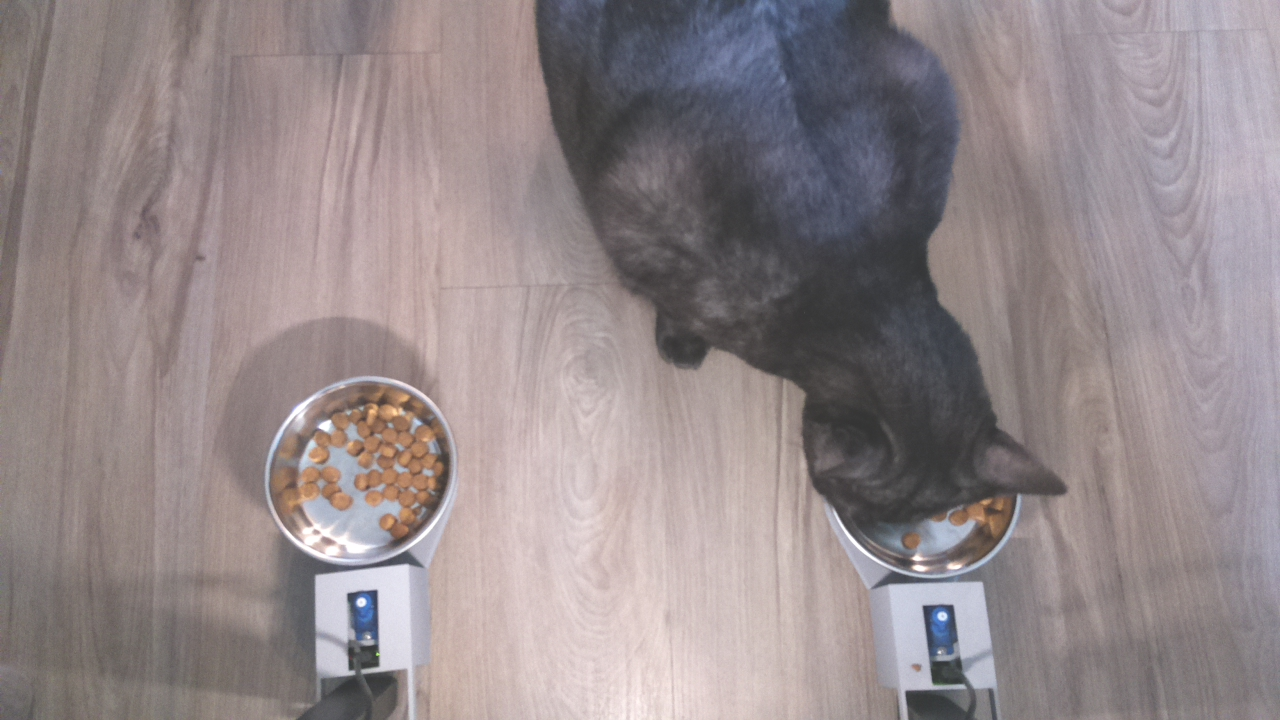open_bowl: (257, 368, 457, 571)
saki_eating: (795, 280, 1085, 584)
